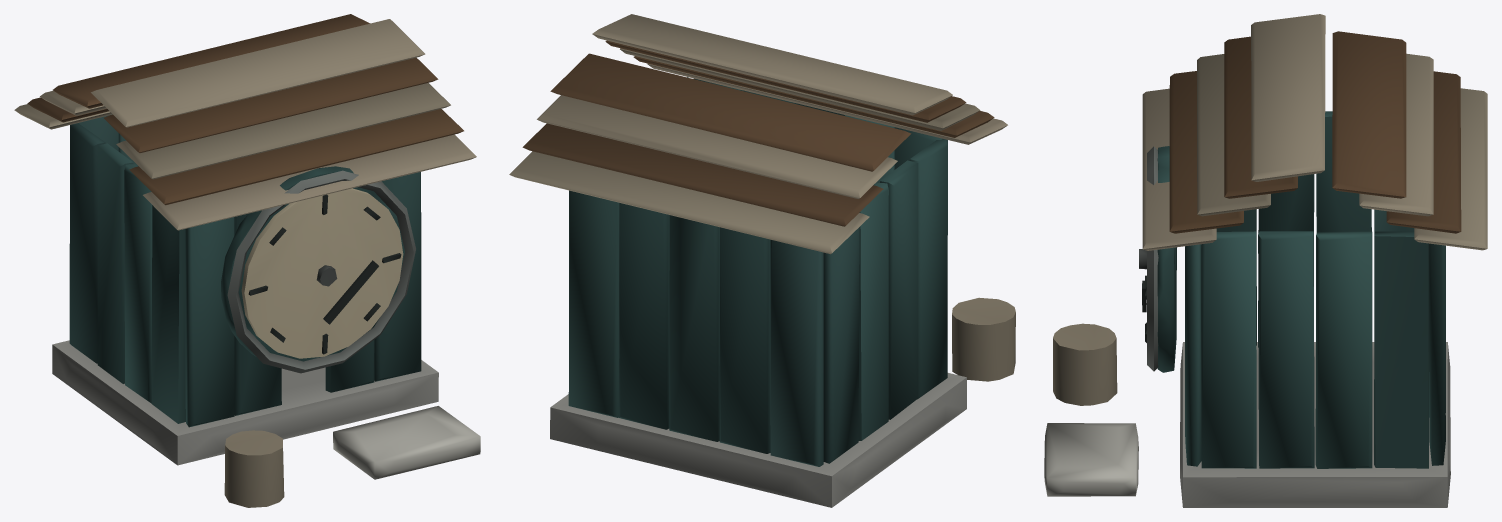
File: gauge_dial_shed_b_lod1.glb
3 renders of one model, left to right at view 1: azimuth 30°, elevation 25°; view 2: azimuth 150°, elevation 25°; view 3: azimuth 270°, elevation 25°, orthographic. The views are drawn at different scales.
Visible parts, largest first — view 1: Surface.001; view 2: Surface.001; view 3: Surface.001.
Boxes of the visible parts, x1,y1,x2,y2 form: Surface.001: [14, 14, 480, 507]; Surface.001: [509, 14, 1015, 507]; Surface.001: [1044, 14, 1487, 507].
Bounding box in the file's own units: 2.71 × 2.88 × 3.27.
